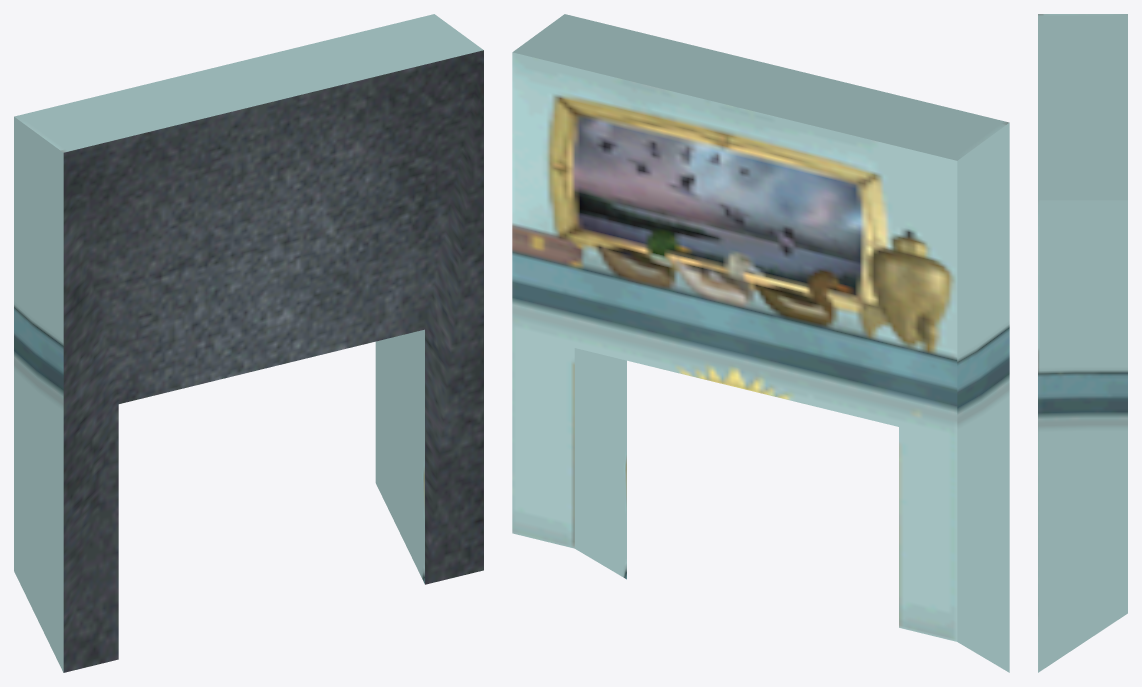
File: FirePlace.glb
3 views of the same model, side by side, from view 1: azimuth 30°, elevation 25°; view 2: azimuth 150°, elevation 25°; view 3: azimuth 270°, elevation 25° (orthographic). The views are drawn at different scales.
Parts seen in each view (by area): view 1: FirePlace; view 2: FirePlace; view 3: FirePlace.
Part boxes in pixels (box(x1,y1,x2,y2)): FirePlace: box(14, 14, 483, 672); FirePlace: box(512, 14, 1009, 672); FirePlace: box(1038, 14, 1127, 672).
Bounding box in the file's own units: 594 × 703 × 121.
2 materials, 2 textured.
